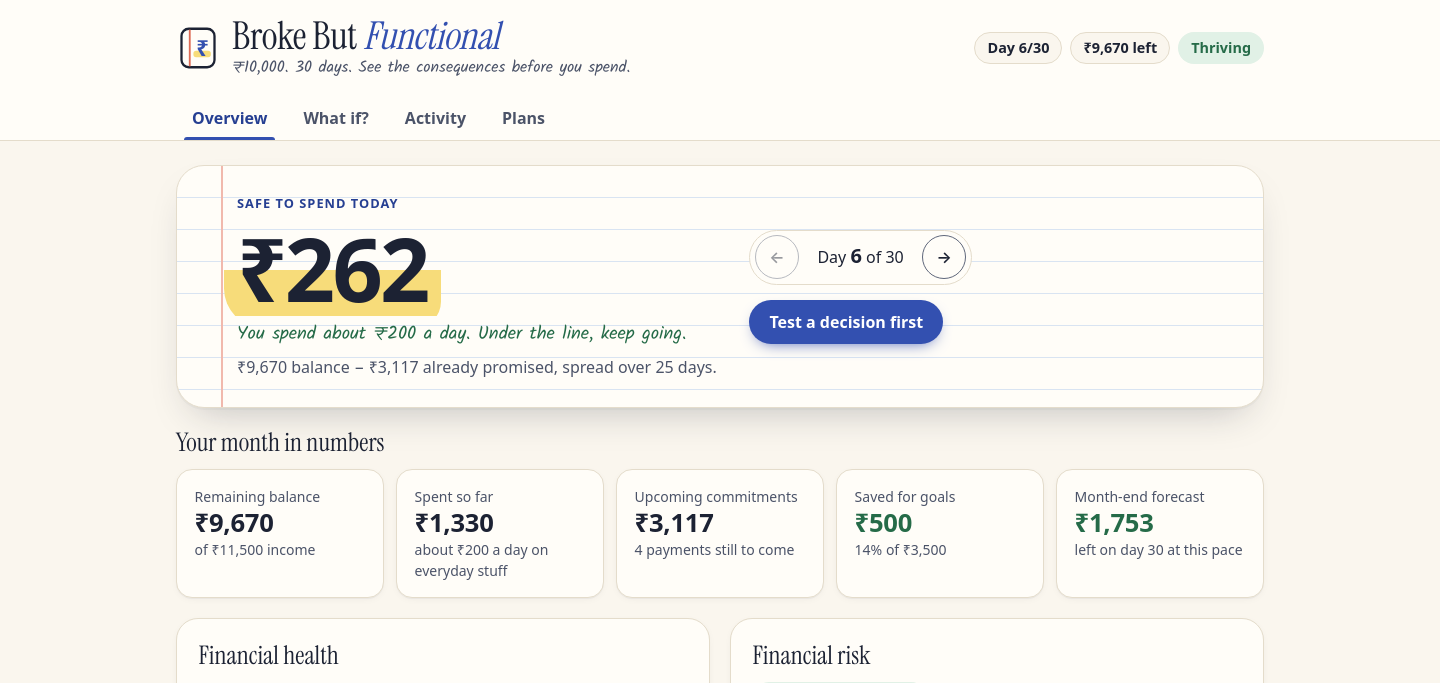
App shell › jumps from the dashboard to the simulator
Click the button "Test a decision first": (846, 322) 749,300 -> 943,344
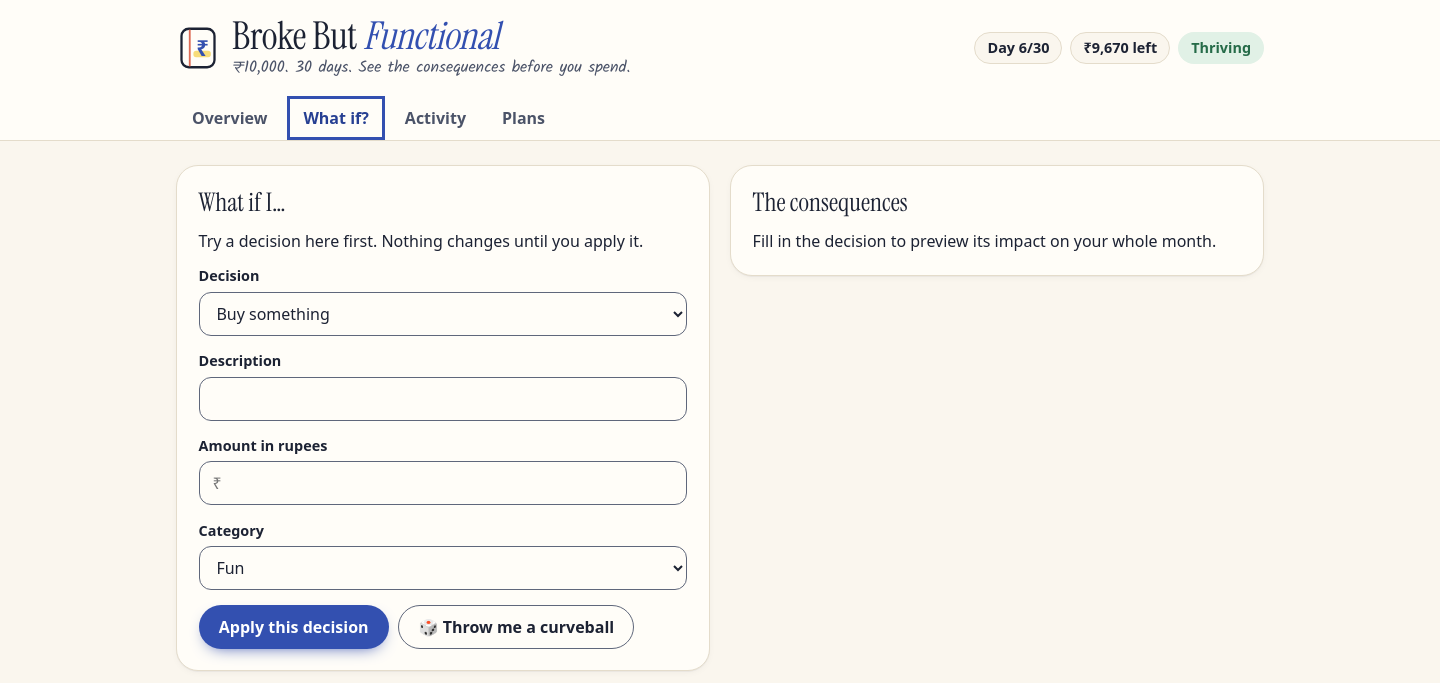
Expected: the heading "What if I…" is shown, 199,186 -> 286,219
